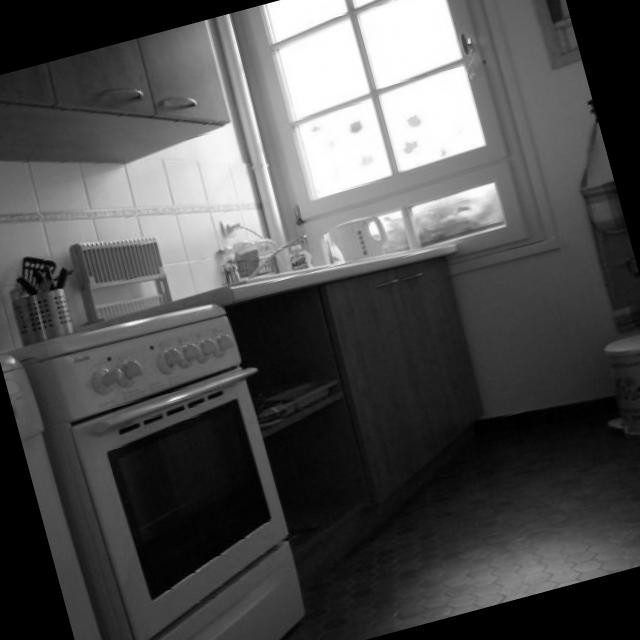2001: (246, 0, 509, 218)
electric tea kettle: (325, 213, 386, 260)
stove range: (0, 302, 305, 640)
